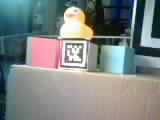duck: (60, 5, 100, 44)
